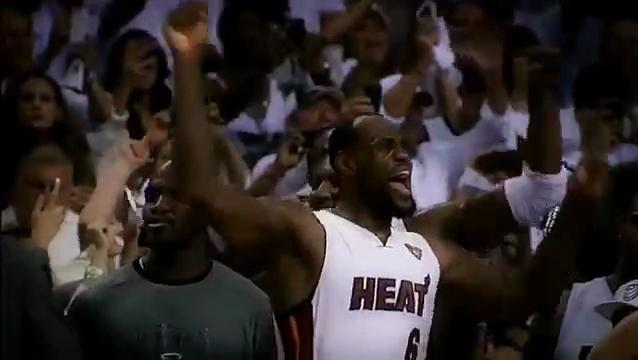Person: (156, 0, 613, 360)
